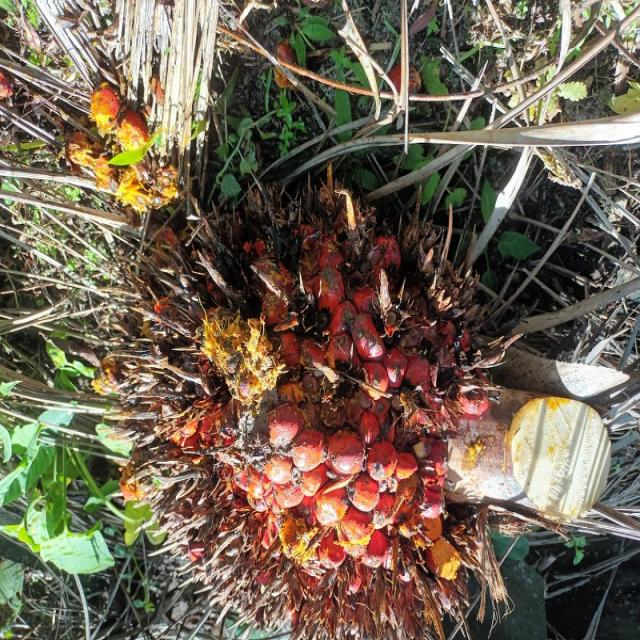fraksi 3: (165, 14, 553, 477)
